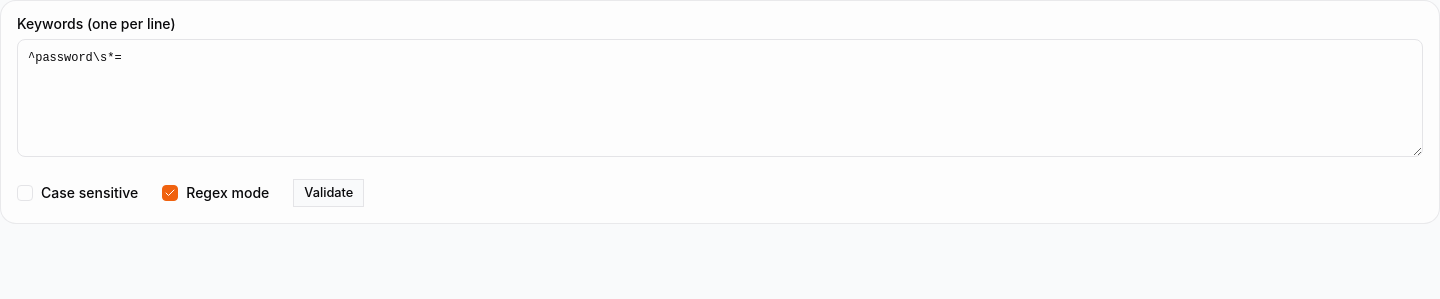
Test case: <KeywordsEditor /> › shows OK indicators when Validate is clicked on a valid regex
Click the button "Validate": (329, 193) [293, 179, 364, 207]
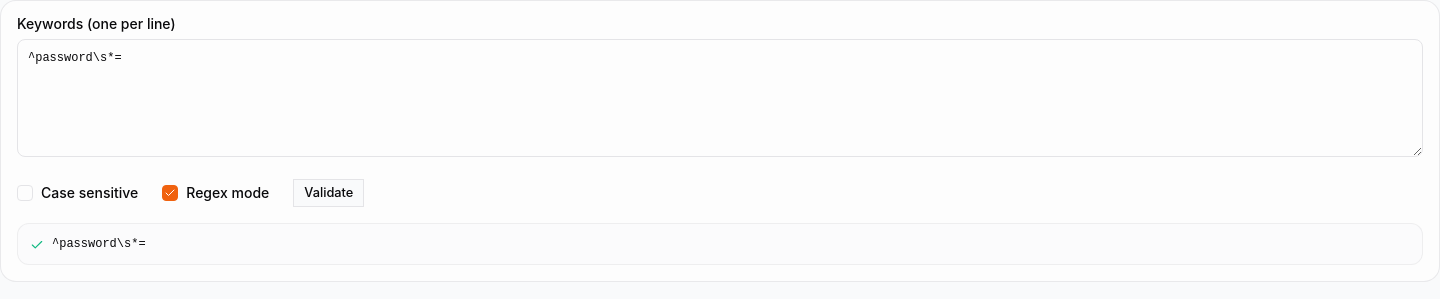
expect the list item "^password\\s*=" is shown: met, box [30, 237, 146, 252]
